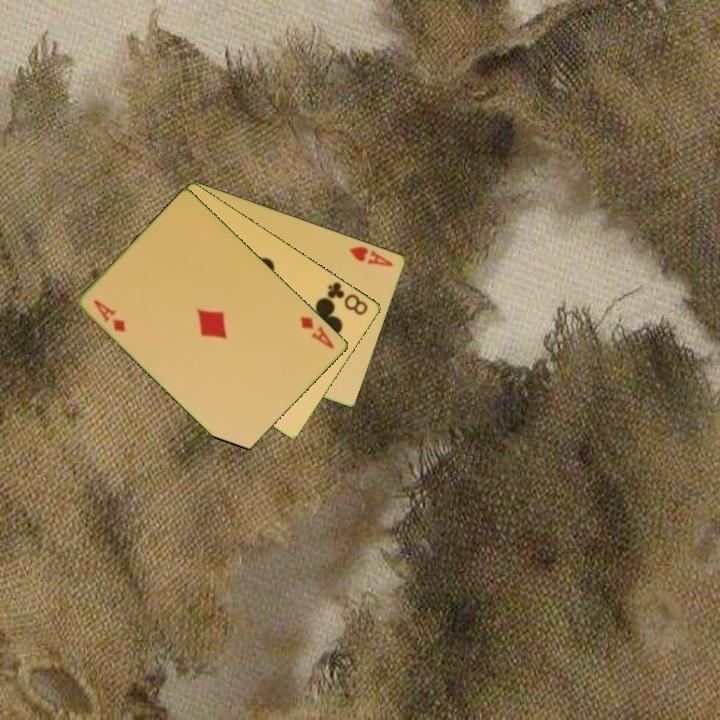8c: (324, 278, 371, 318)
Ad: (297, 312, 337, 352), (90, 296, 129, 335)
Ah: (346, 242, 396, 269)
